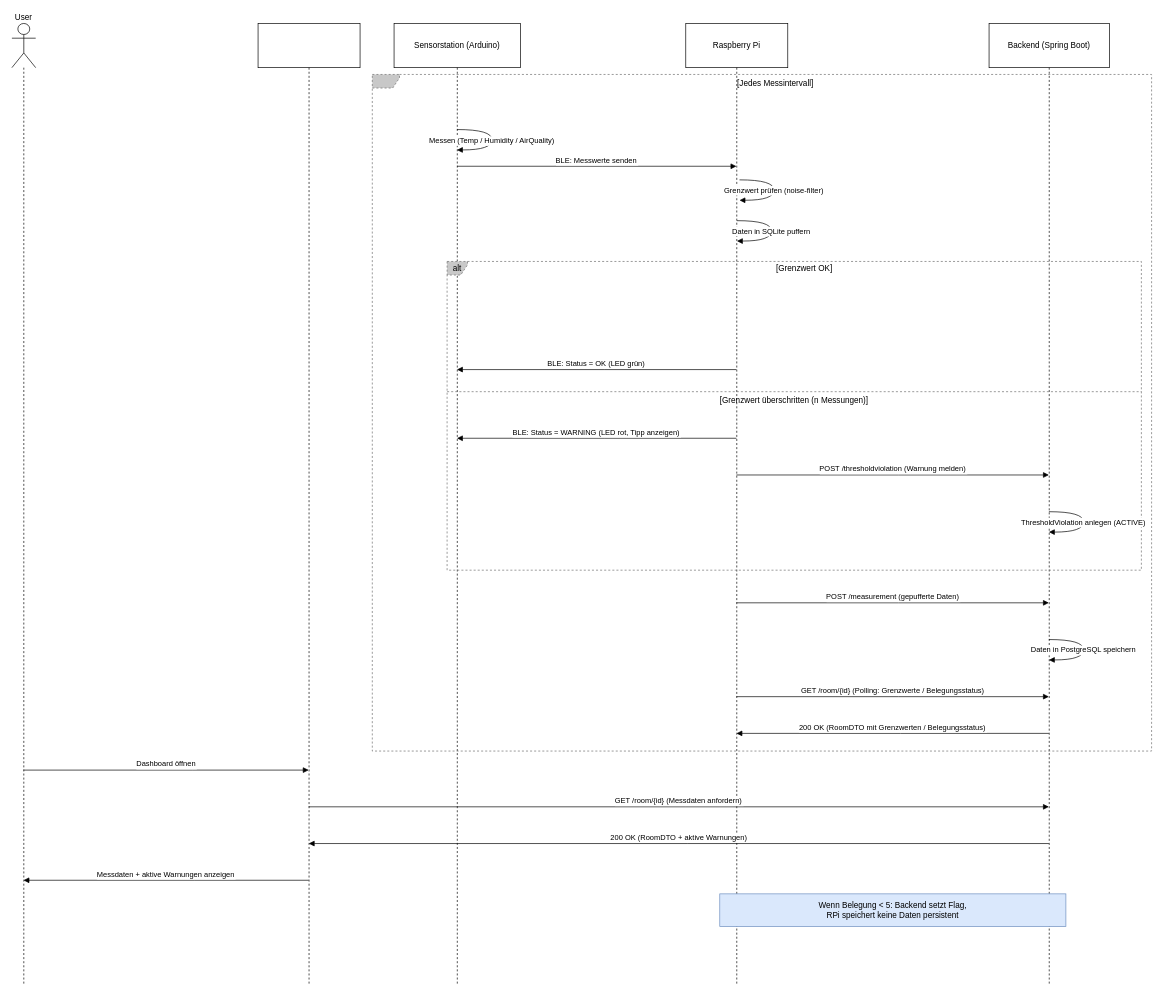
Image size: 1163x996. Some labels were removed from this diagram. Here are the shapes that lost their labels. From the top down, the box of each, then its label:
(372, 74, 1152, 751): loop
(257, 23, 360, 984): Frontend (React)
